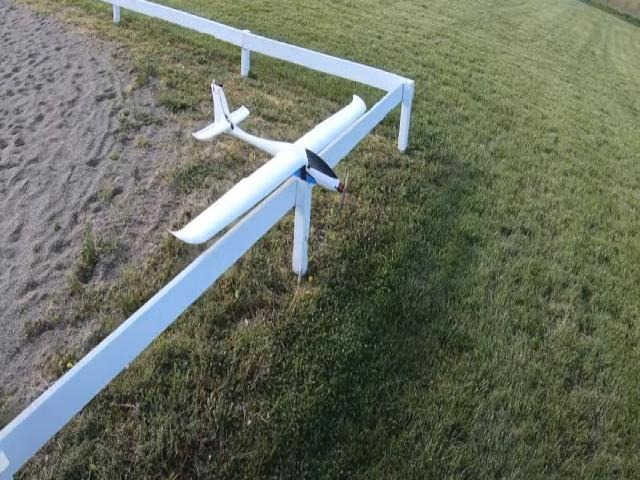iha: (165, 73, 371, 244)
